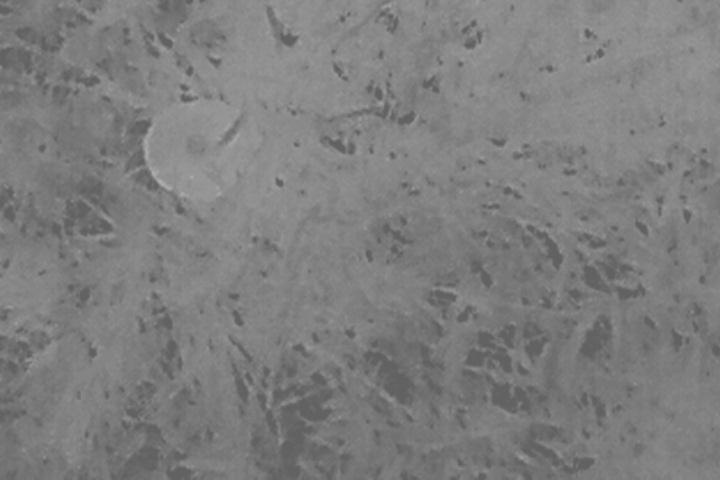landmine: (142, 97, 262, 200)
